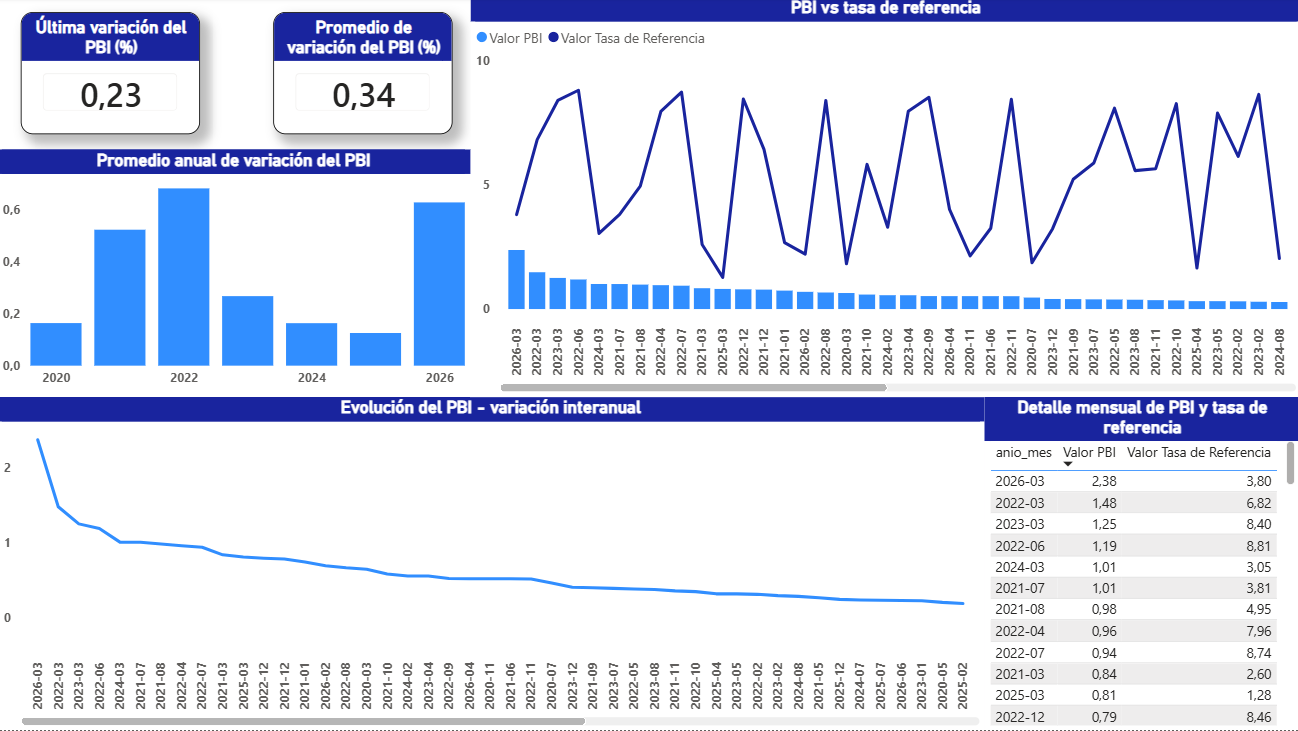

What the dashboard file says about the page in this screenshot:
{"tool":"powerbi","page":{"name":"PBI y actividad económica","canvas":[1280,720],"ordinal":3},"visuals":[{"type":"cardVisual","title":"Última variación del PBI (%)","fields":{"Data":["fact_indicadores.Último PBI"]},"box":[23.1,14.4,176,119.7],"z":0},{"type":"cardVisual","title":"Promedio de variación del PBI (%)","fields":{"Data":["fact_indicadores.Promedio PBI"]},"box":[271.2,14.4,176,119.7],"z":1000},{"type":"lineChart","title":"Evolución del PBI - variación interanual","fields":{"Y":["fact_indicadores.Valor PBI"],"Category":["dim_fecha.anio_mes"]},"box":[0,392.4,969.5,327.5],"z":2000},{"type":"clusteredColumnChart","title":"Promedio anual de variación del PBI","fields":{"Category":["dim_fecha.anio"],"Y":["fact_indicadores.Valor PBI"]},"box":[0,150,464.6,242.4],"z":3000},{"type":"lineClusteredColumnComboChart","title":"PBI vs tasa de referencia","fields":{"Category":["dim_fecha.anio_mes"],"Y":["fact_indicadores.Valor PBI"],"Y2":["fact_indicadores.Valor Tasa de Referencia"]},"box":[464.6,0,815.2,392.4],"z":4000},{"type":"tableEx","title":"Detalle mensual de PBI y tasa de referencia","fields":{"Values":["dim_fecha.anio_mes","fact_indicadores.Valor PBI","fact_indicadores.Valor Tasa de Referencia"]},"box":[969.5,392.4,310.2,327.5],"z":5000}]}

Visuals, with their boxes in screenshot pixels (x1, y1, x2, y2), scaled from the page's 1280x720 canvas onto the 1298x731 screenshot:
"Última variación del PBI (%)" cardVisual: 23:15:202:136
"Promedio de variación del PBI (%)" cardVisual: 275:15:453:136
"Evolución del PBI - variación interanual" lineChart: 0:398:983:730
"Promedio anual de variación del PBI" clusteredColumnChart: 0:152:471:398
"PBI vs tasa de referencia" lineClusteredColumnComboChart: 471:0:1297:398
"Detalle mensual de PBI y tasa de referencia" tableEx: 983:398:1297:730
